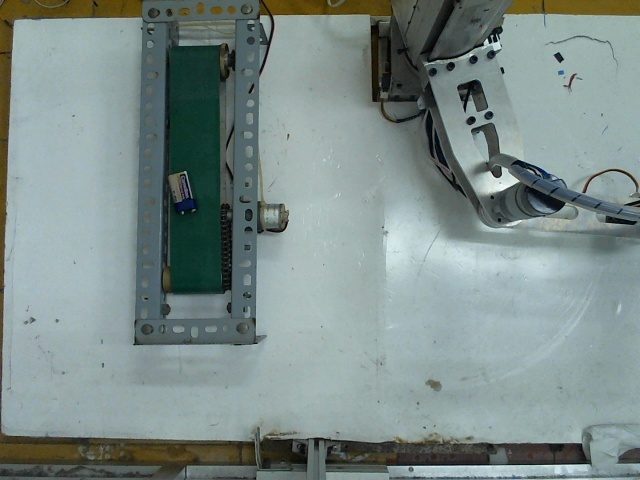battery: (161, 172, 201, 213)
